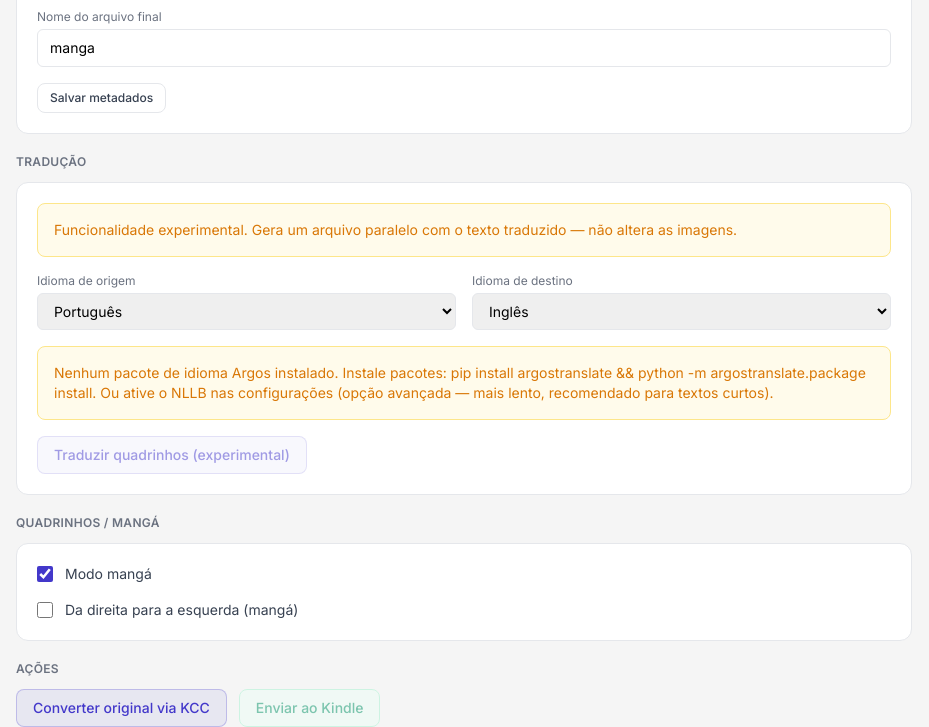
Scenario: AnalysisPage — modo comic (bug fixes) › exibe banner de erro KCC quando comicConvertJob lança exceção
This screenshot has width=929, height=727.
(page scrolled)
Click the button "Converter original via KCC".
click(121, 708)  # box x1=16 y1=688 x2=227 y2=726
(page scrolled)
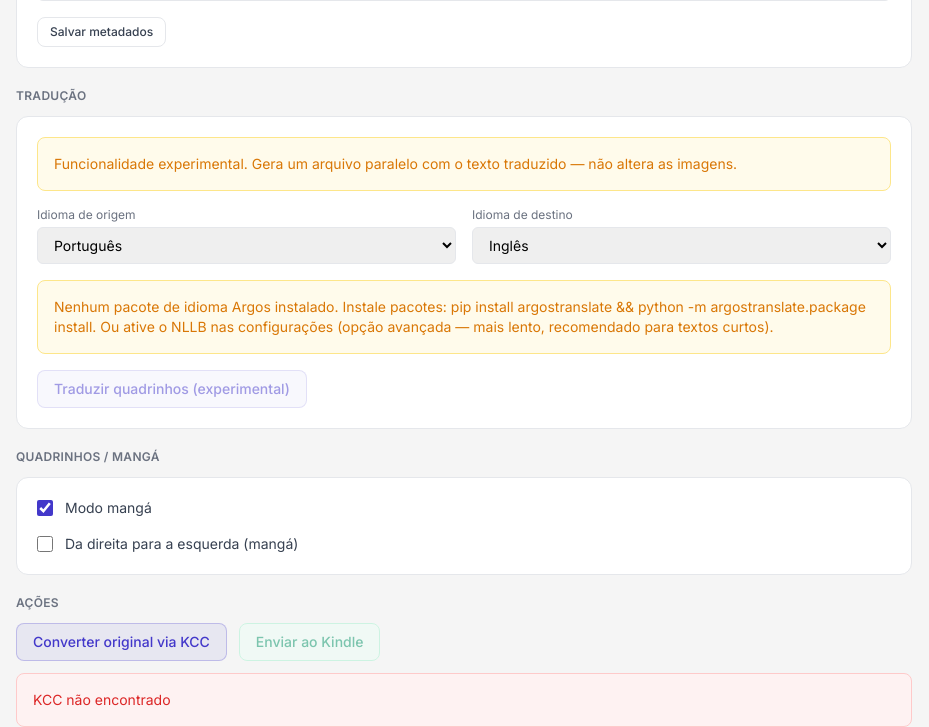
expect the text "KCC não encontrado" is shown: met, box x1=16 y1=672 x2=912 y2=726
